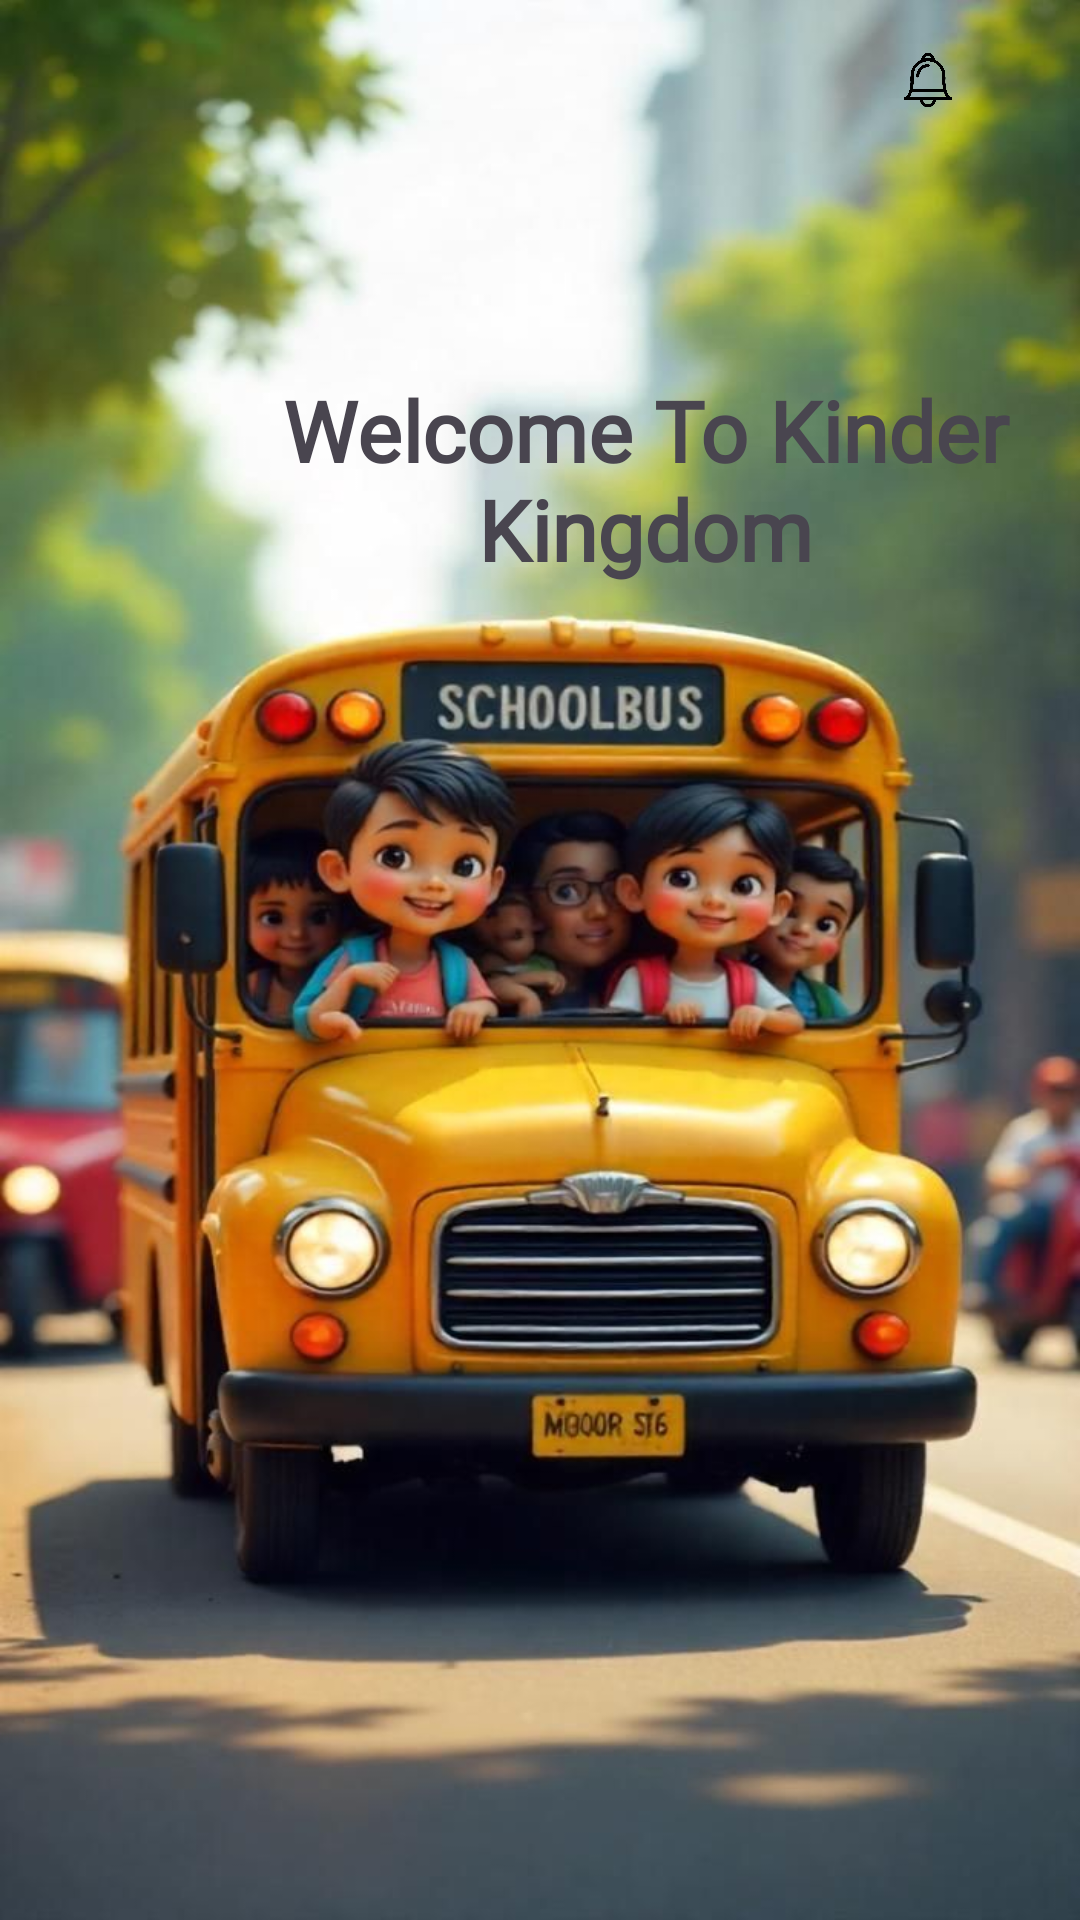

Icon click points for this 1080px×1920px phone screenshot, format [x,y]:
bellicon: [927,81]
